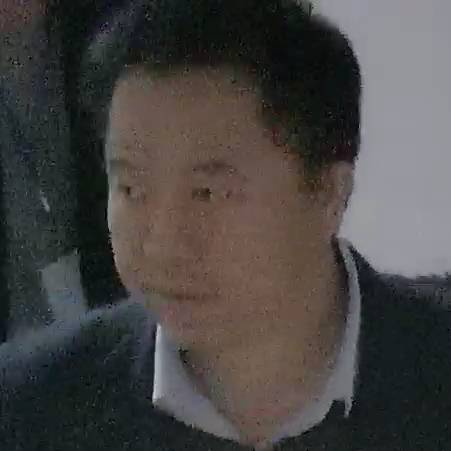cb: (60, 38, 389, 367)
